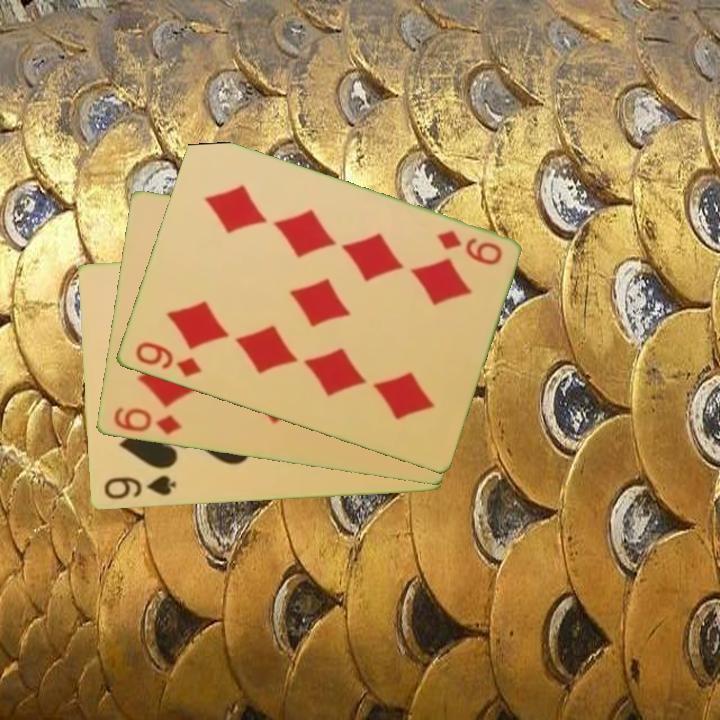6d: (109, 404, 184, 438)
9d: (131, 338, 204, 381), (432, 227, 505, 268)
9s: (100, 472, 179, 503)
